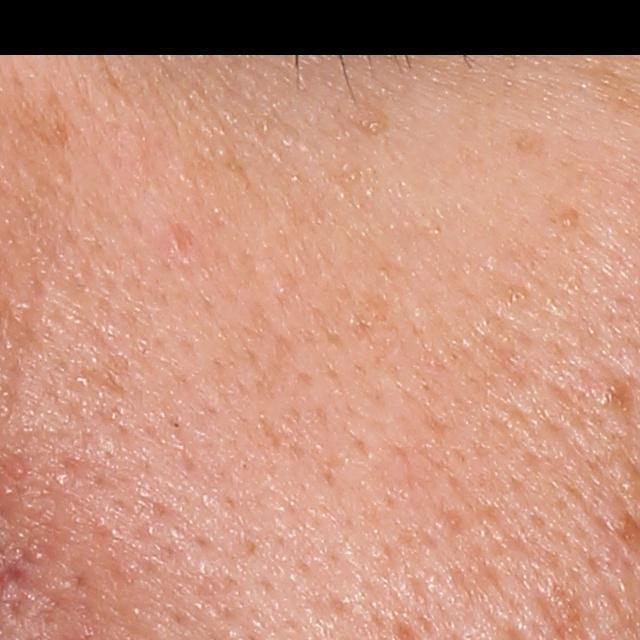melasma: (5, 80, 77, 153), (503, 128, 553, 158)
